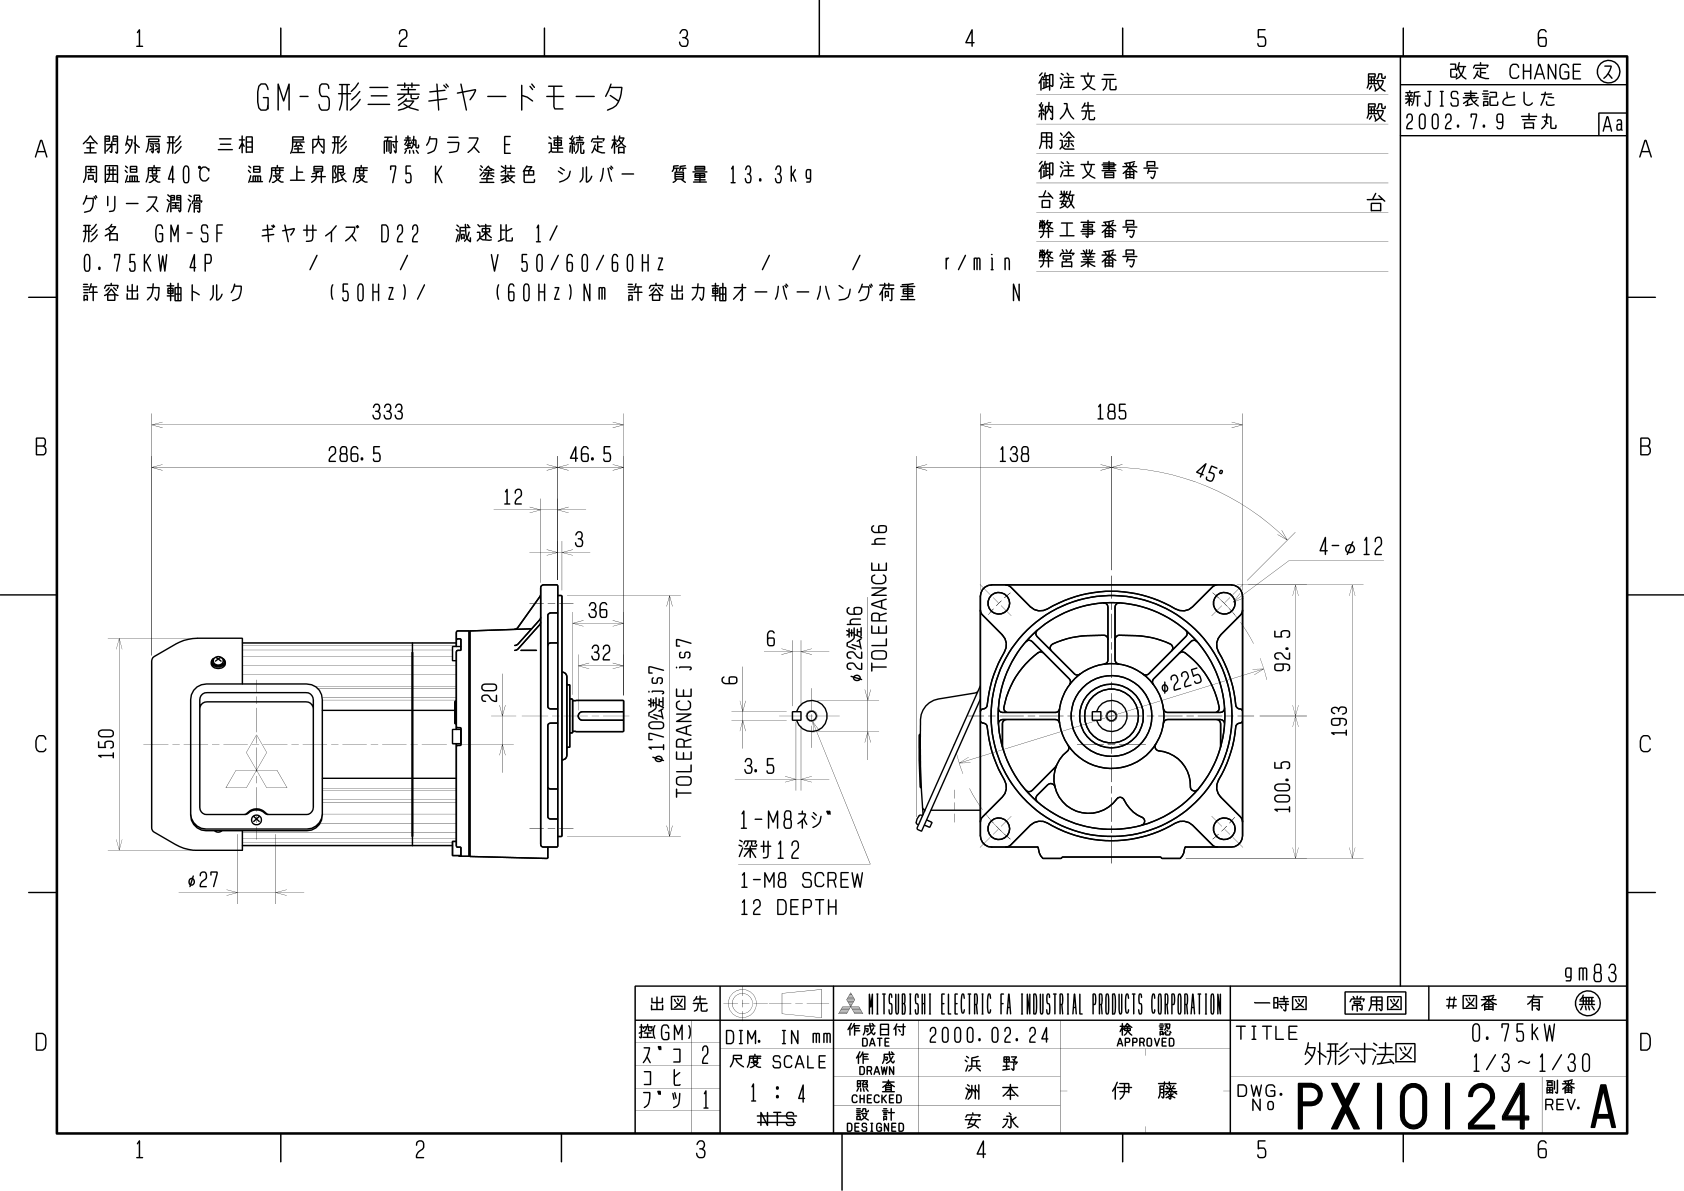GM_S_屋内＿三相_フランジ: (85, 333, 1389, 945)
